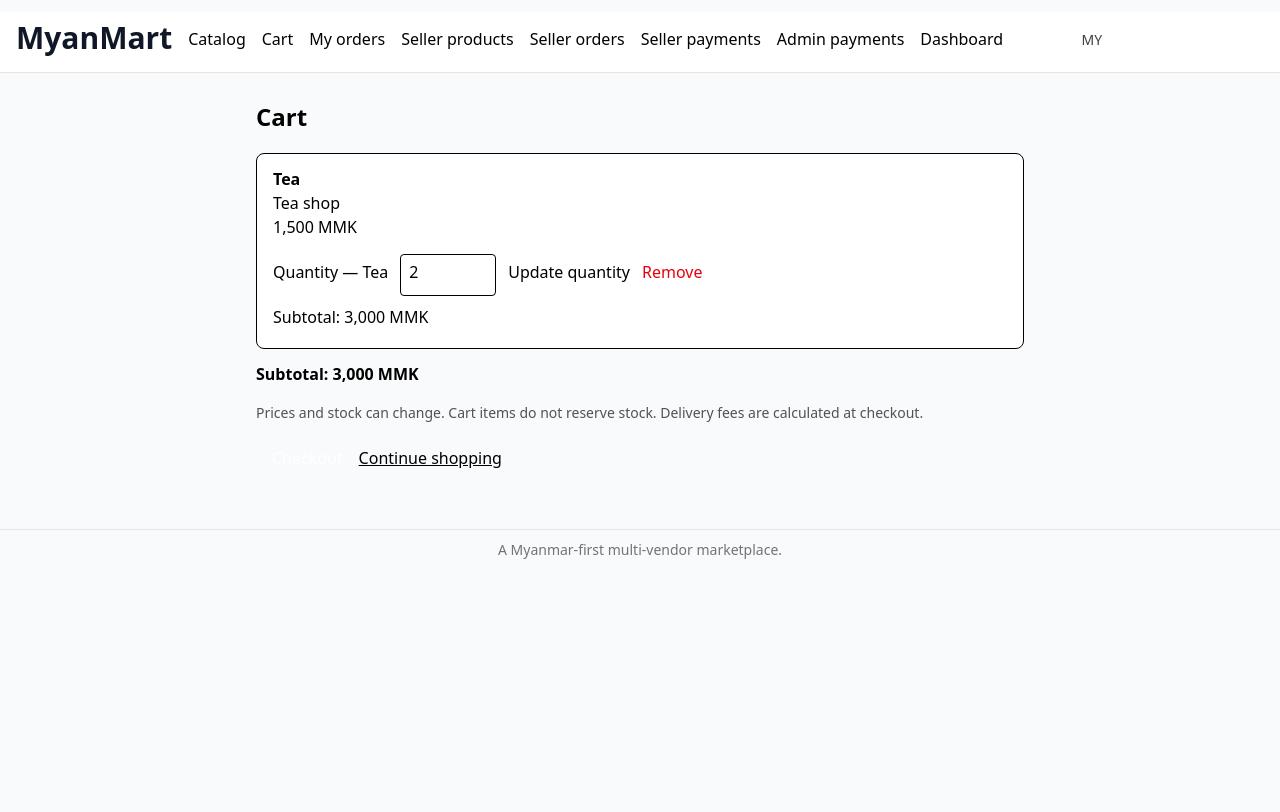
Test: shopping cart UI › renders current prices, edits quantities and removes items
Expected: the text "1,500 MMK" is shown, [273,218,357,242]
Replace the text in the number field labelled "Quantity — Tea" with "3" at (448, 275), box [400,254,496,296]
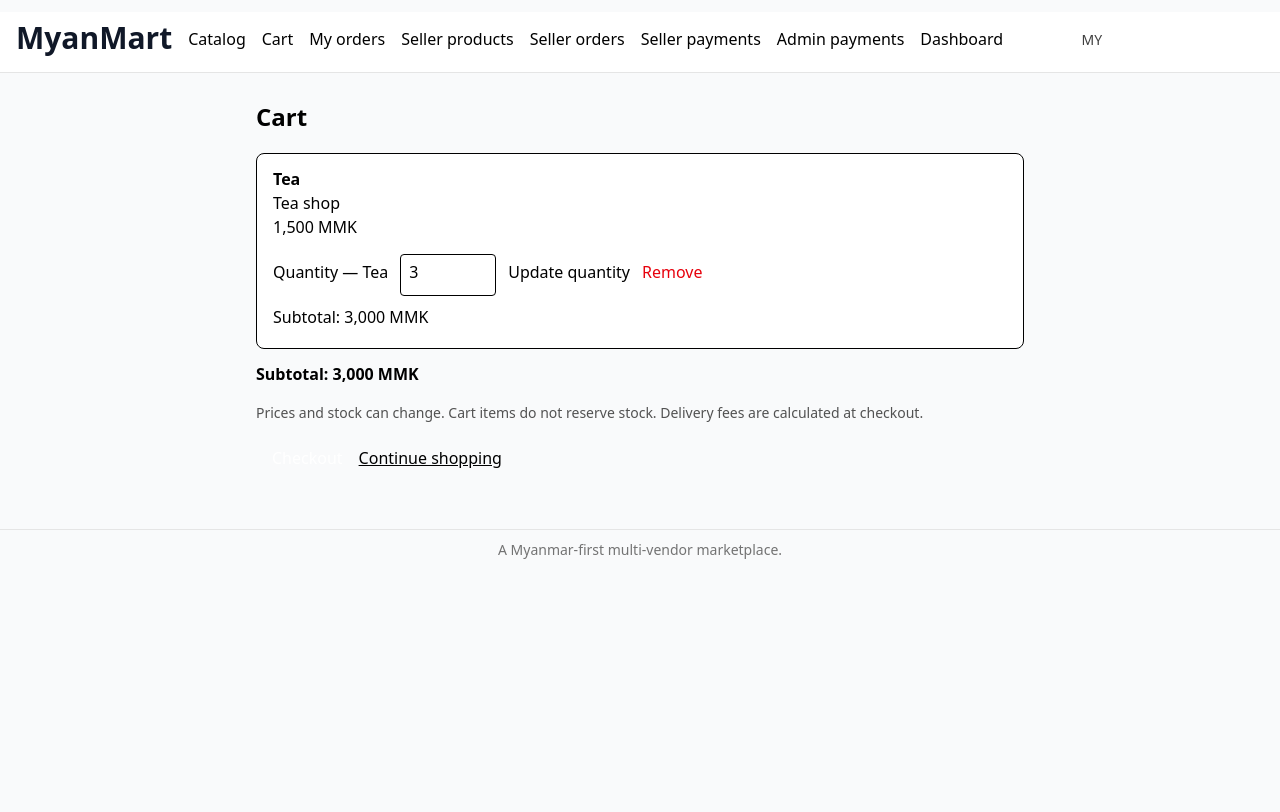
Click the button "Update quantity" at (569, 275), box [508,263,630,287]
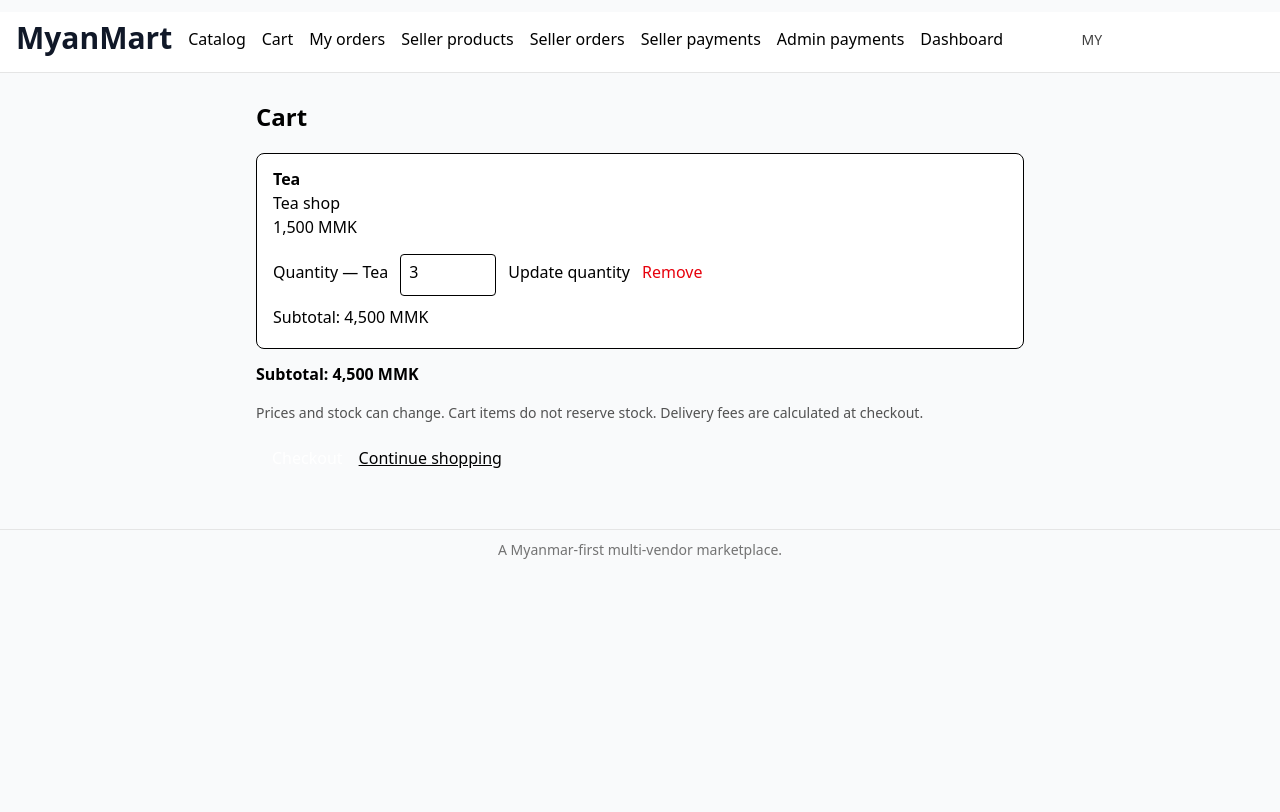
Now the number field holds "3", box [400,254,496,296]
Click the button with aria-label "Remove — Tea" at (672, 275), box [642,263,702,287]
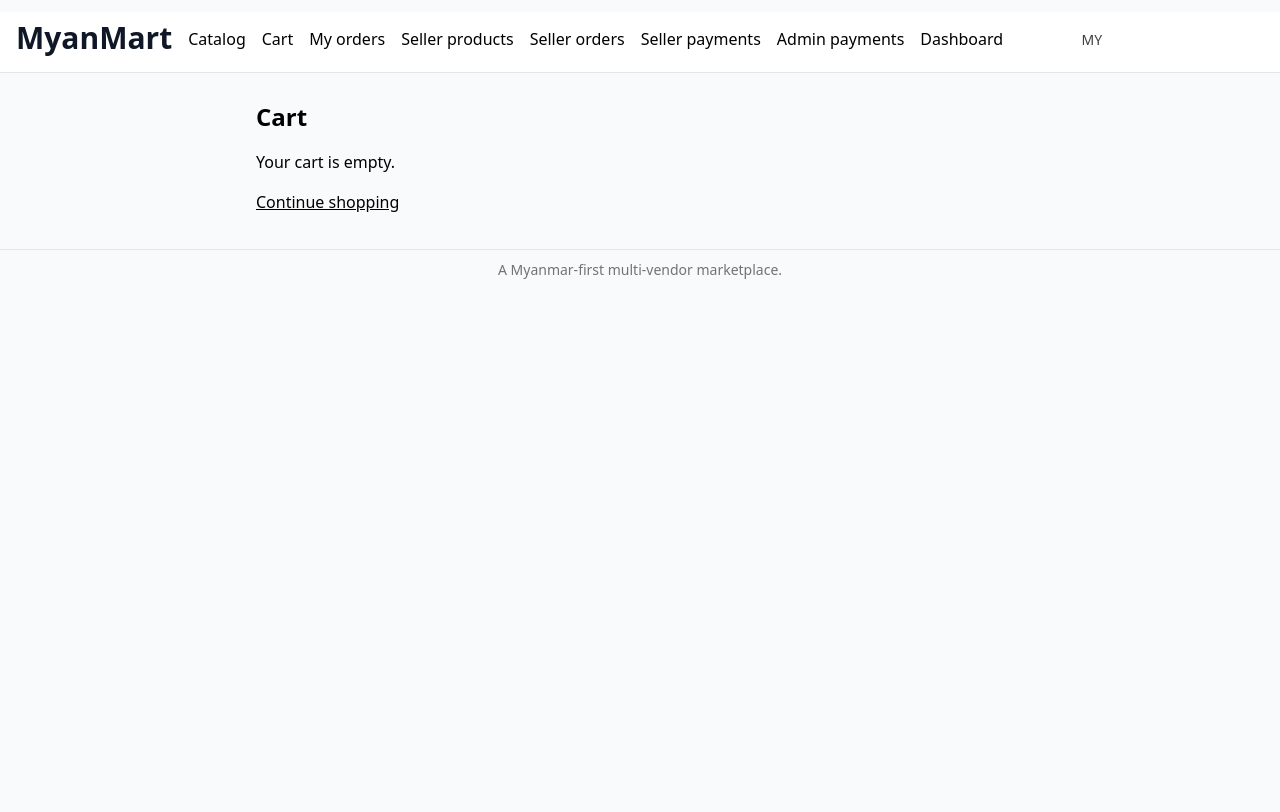
Now the text "Your cart is empty." is shown, box [256,147,395,182]
